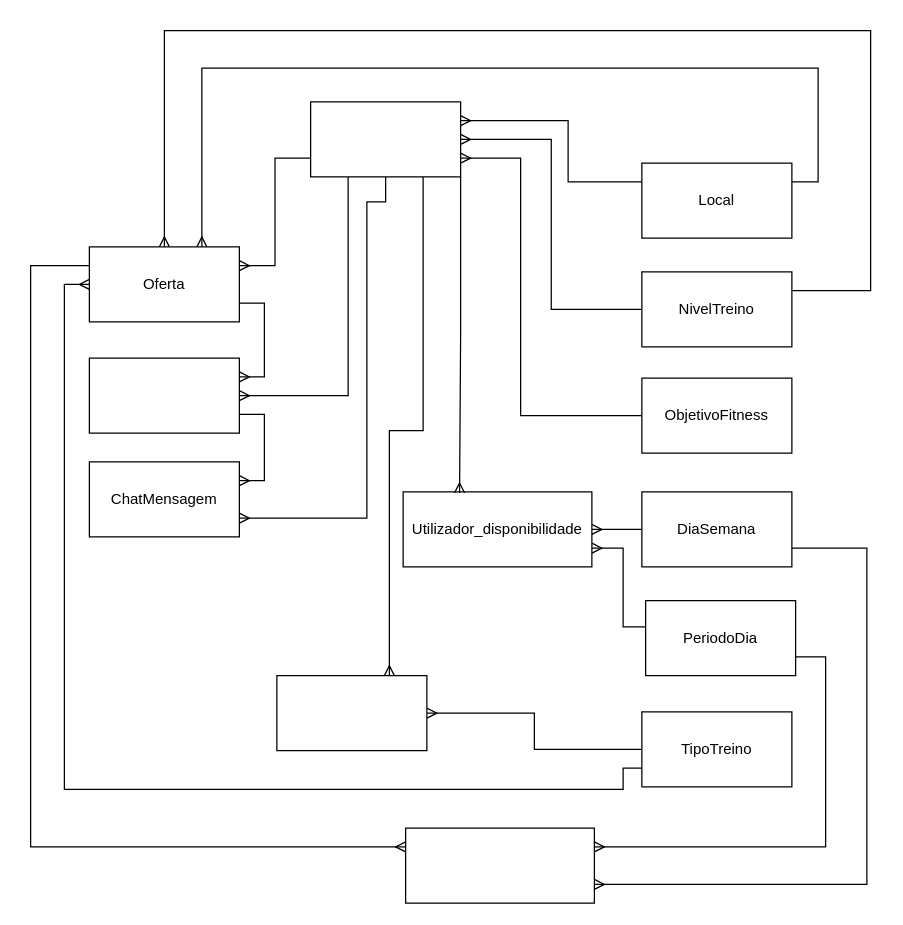
The diagram is 903 pixels wide and 925 high, and some of its shapes have lost their labels. Each missing label, with the box of its shape:
Candidatura: (88, 357, 239, 433)
Oferta_disponibilidade: (404, 827, 594, 903)
Utilizador: (309, 101, 461, 177)
Utilizador_Interesses: (276, 674, 427, 751)
